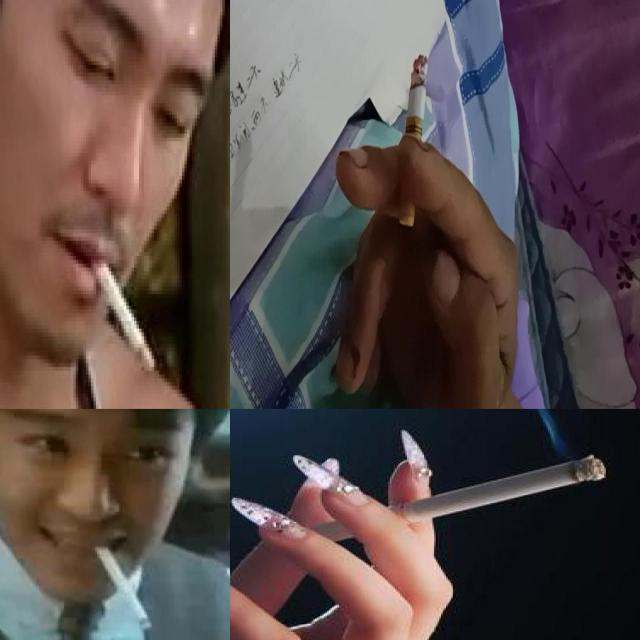smoking: (291, 456, 608, 542), (86, 246, 156, 373), (90, 539, 154, 630), (398, 54, 428, 228)
